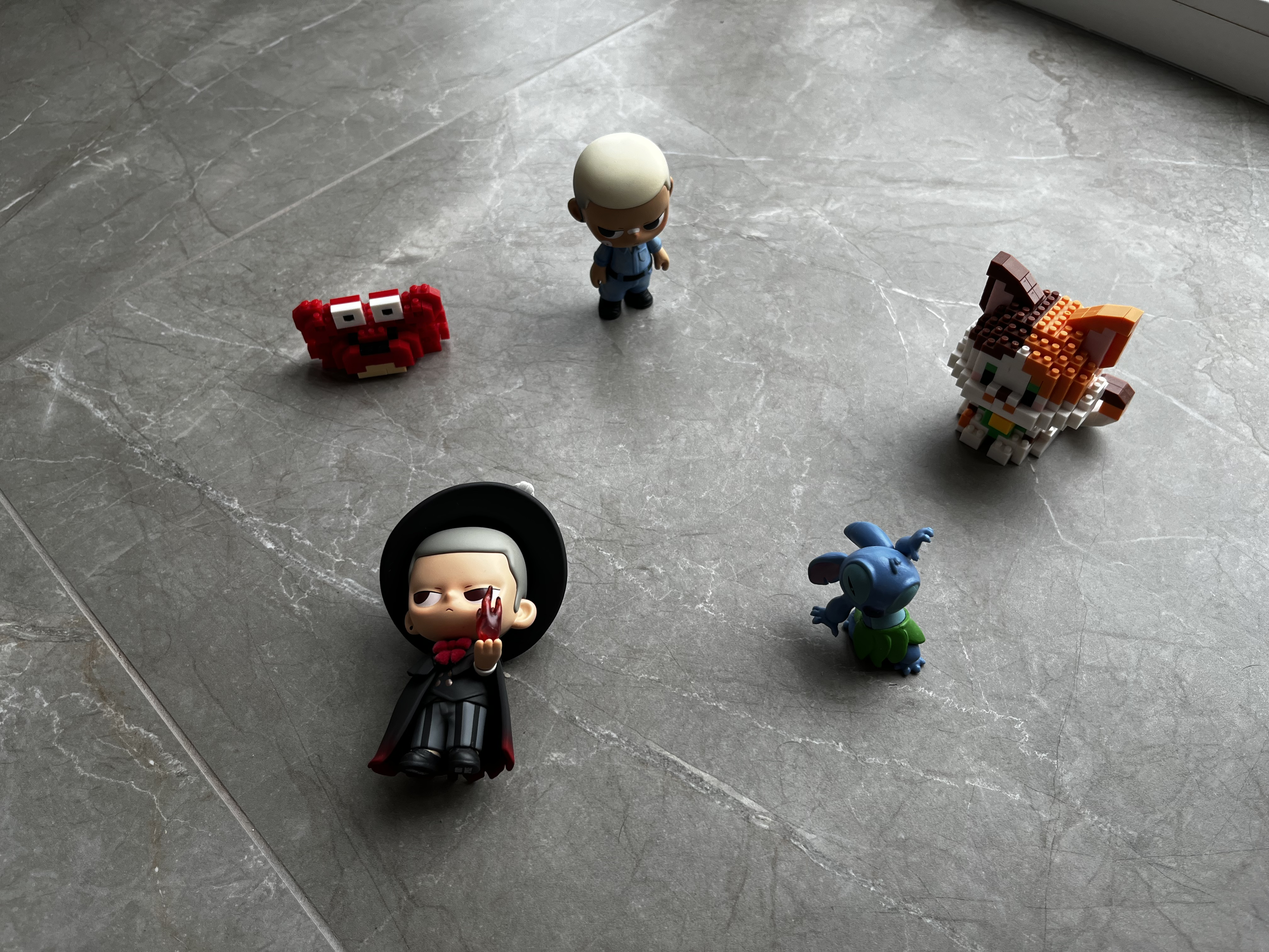cat: (939, 246, 1149, 484)
crab: (281, 279, 463, 390)
magician: (354, 459, 577, 806)
stitch: (803, 508, 955, 689)
worker: (551, 124, 701, 333)
